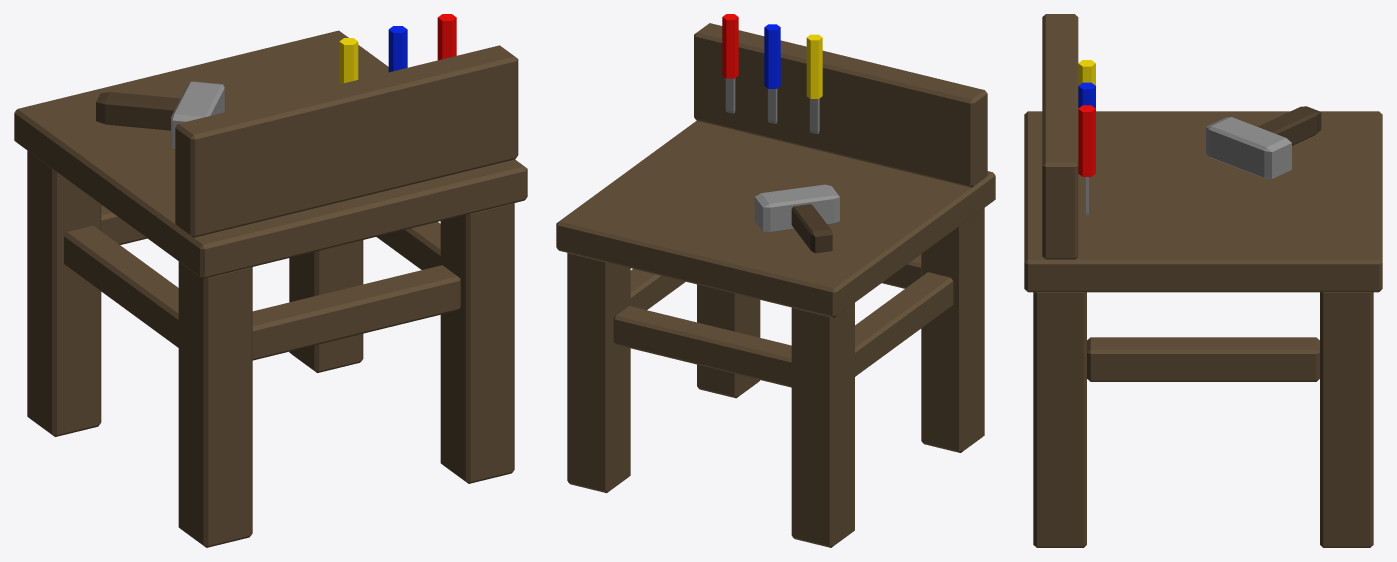
The model's file is workBench.obj.
3 views of the same model, side by side, from view 1: azimuth 30°, elevation 25°; view 2: azimuth 150°, elevation 25°; view 3: azimuth 270°, elevation 25° (orthographic). The views are drawn at different scales.
Visible parts, largest first — view 1: 立方体.004; view 2: 立方体.004; view 3: 立方体.004.
Boxes of the visible parts, box(x1,y1,x2,y2) form: 立方体.004: box(14, 14, 527, 547); 立方体.004: box(556, 14, 995, 547); 立方体.004: box(1024, 14, 1382, 547).
Size of the model in its own units: 2 by 2.6 by 2.
